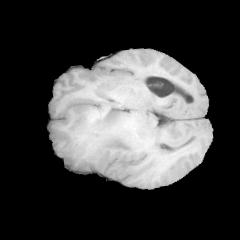glioma: (67, 106, 131, 159)
